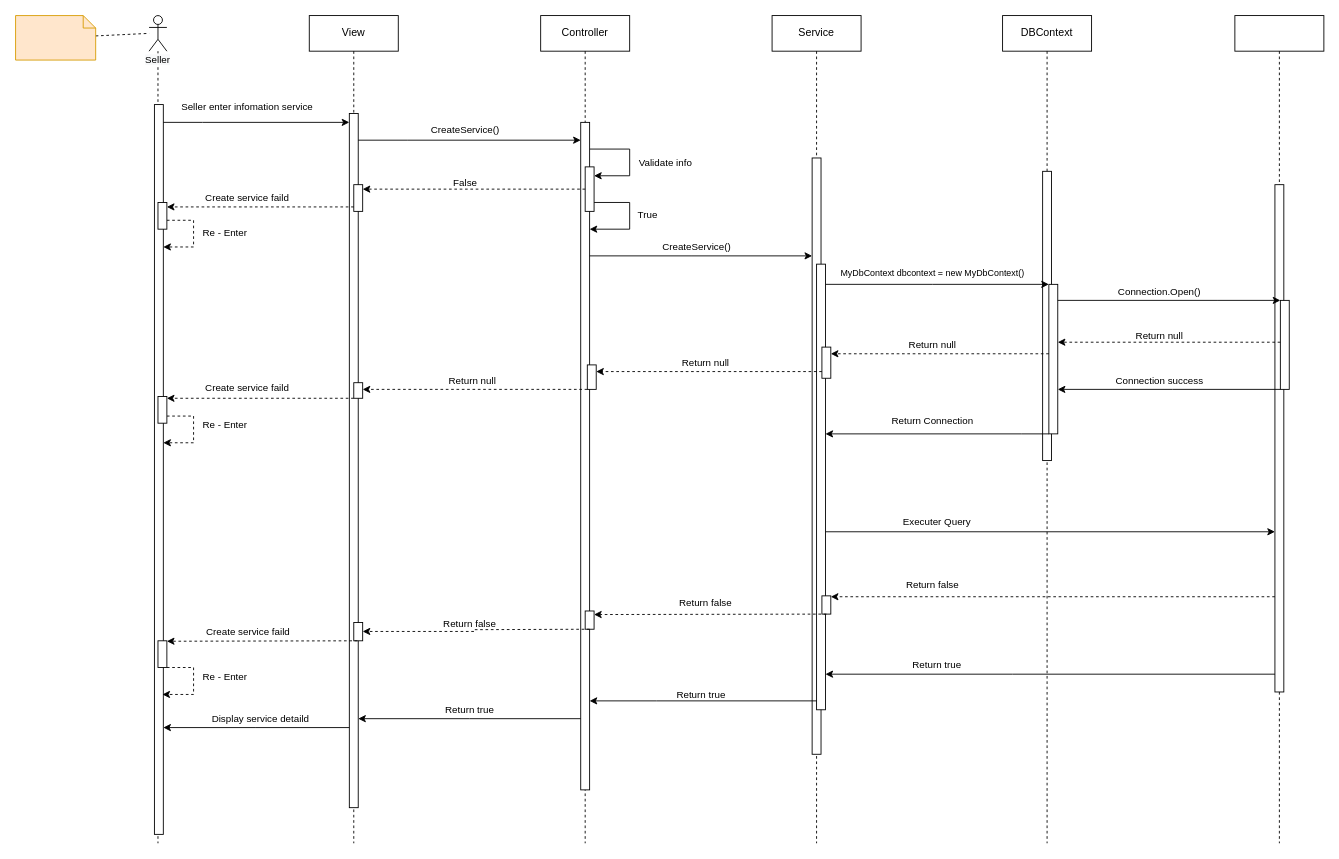
This 1339x859 diagram has some shape labels left out. The box of each missing label's shape, as (x1, y1, x2, y2) in pixels:
Buyer registered to do seller: (15, 15, 96, 60)
Database: (1234, 15, 1324, 843)
